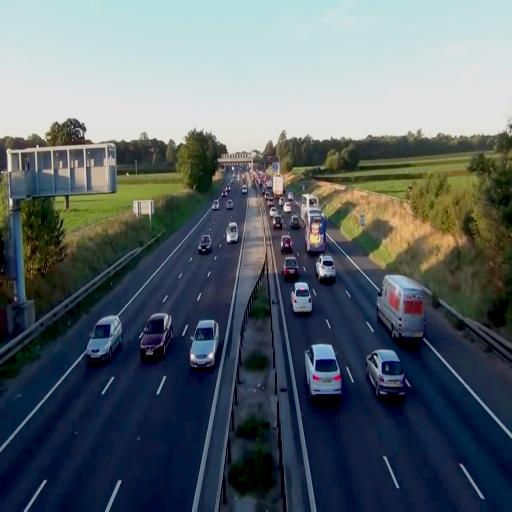vehicle: (376, 273, 426, 344), (305, 342, 342, 401), (366, 348, 408, 399), (86, 316, 122, 366), (140, 312, 172, 361), (190, 319, 220, 369), (306, 212, 326, 253), (291, 281, 313, 314), (316, 255, 336, 283), (282, 255, 299, 282), (198, 233, 212, 255), (226, 222, 239, 244), (269, 208, 281, 226)
